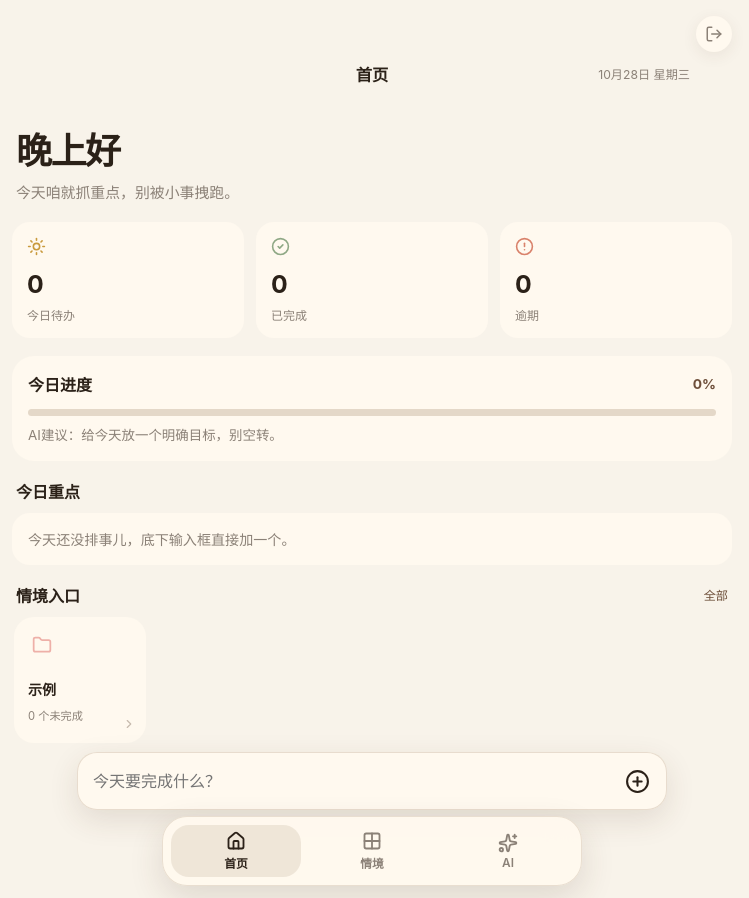
Test: responsive authenticated shell › logs out and returns to the password screen
Click the button named "退出登录" at coordinates (714, 34), box [696,16,732,52]
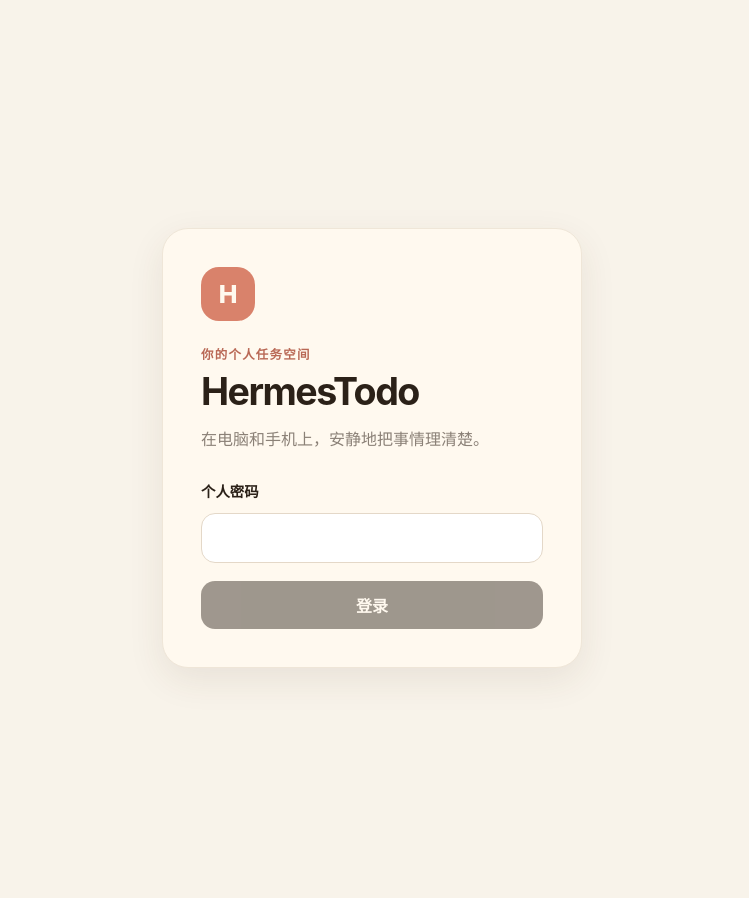
Expected: the password field labelled "个人密码" is shown, [201,513,543,563]
